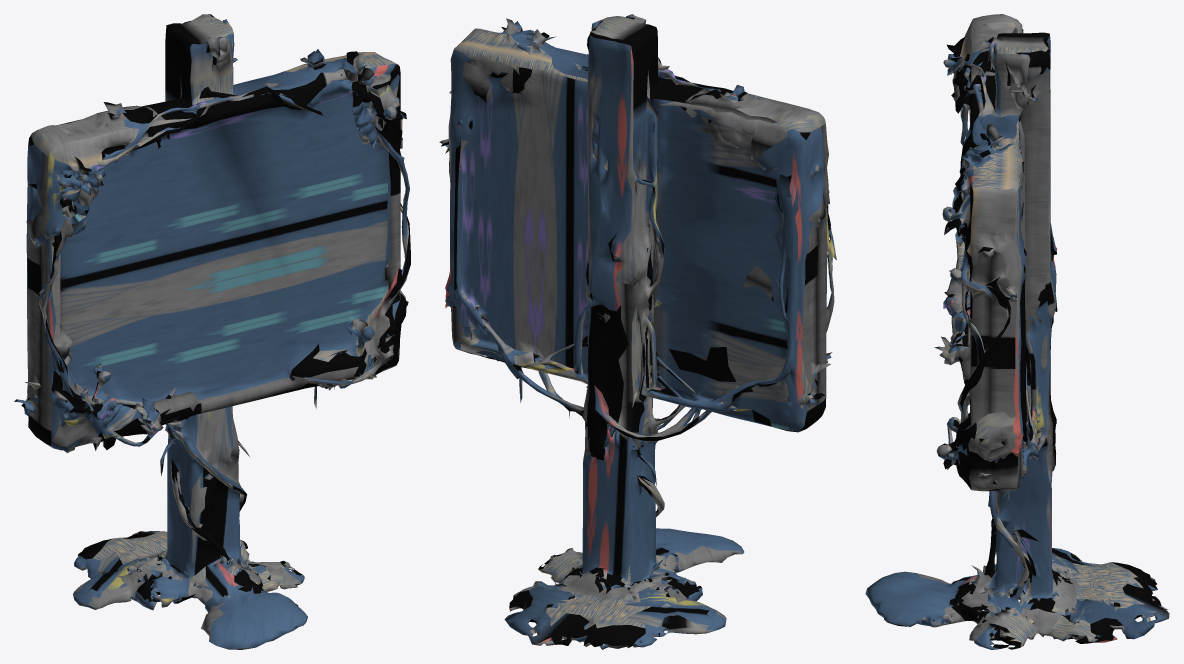
Rendered from DOT_RagnarSign_Mesh.fbx.
3 views of the same model, side by side, from view 1: azimuth 30°, elevation 25°; view 2: azimuth 150°, elevation 25°; view 3: azimuth 270°, elevation 25° (orthographic).
Parts seen in each view (by area): view 1: world; view 2: world; view 3: world.
Boxes of the visible parts, x1,y1,x2,y2 form: world: [14, 14, 410, 649]; world: [439, 14, 836, 649]; world: [865, 14, 1169, 649].
Bounding box in the file's own units: 71.12 × 100 × 48.38.
